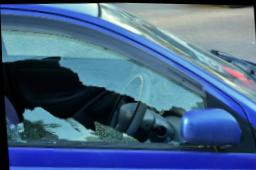Door: (2, 27, 173, 170)
